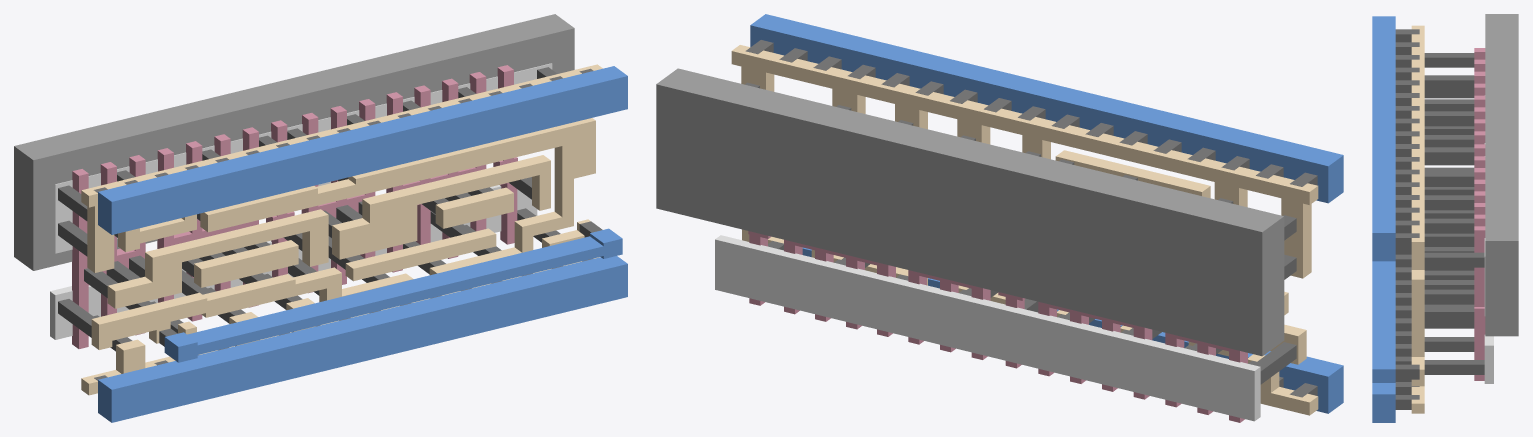
File: sky130_fd_sc_hd__o211ai_4.gds.gltf
3 views of the same model, side by side, from view 1: azimuth 30°, elevation 25°; view 2: azimuth 150°, elevation 25°; view 3: azimuth 270°, elevation 25° (orthographic). The views are drawn at different scales.
Visible parts, largest first — view 1: sky130_fd_sc_hd__o211ai_4_met1, sky130_fd_sc_hd__o211ai_4_li1, sky130_fd_sc_hd__o211ai_4_nwell, sky130_fd_sc_hd__o211ai_4_poly, sky130_fd_sc_hd__o211ai_4_licon, sky130_fd_sc_hd__o211ai_4_diff, sky130_fd_sc_hd__o211ai_4_mcon; view 2: sky130_fd_sc_hd__o211ai_4_nwell, sky130_fd_sc_hd__o211ai_4_diff, sky130_fd_sc_hd__o211ai_4_met1, sky130_fd_sc_hd__o211ai_4_li1, sky130_fd_sc_hd__o211ai_4_poly, sky130_fd_sc_hd__o211ai_4_mcon, sky130_fd_sc_hd__o211ai_4_licon; view 3: sky130_fd_sc_hd__o211ai_4_licon, sky130_fd_sc_hd__o211ai_4_nwell, sky130_fd_sc_hd__o211ai_4_met1, sky130_fd_sc_hd__o211ai_4_mcon, sky130_fd_sc_hd__o211ai_4_li1, sky130_fd_sc_hd__o211ai_4_poly, sky130_fd_sc_hd__o211ai_4_diff.
Part boxes in pixels (bbox=[...]): sky130_fd_sc_hd__o211ai_4_met1: bbox=[98, 66, 627, 422]; sky130_fd_sc_hd__o211ai_4_li1: bbox=[81, 64, 602, 395]; sky130_fd_sc_hd__o211ai_4_nwell: bbox=[14, 14, 574, 270]; sky130_fd_sc_hd__o211ai_4_poly: bbox=[72, 65, 517, 348]; sky130_fd_sc_hd__o211ai_4_licon: bbox=[58, 67, 560, 351]; sky130_fd_sc_hd__o211ai_4_diff: bbox=[50, 63, 552, 339]; sky130_fd_sc_hd__o211ai_4_mcon: bbox=[94, 68, 602, 380]; sky130_fd_sc_hd__o211ai_4_nwell: bbox=[656, 68, 1284, 356]; sky130_fd_sc_hd__o211ai_4_diff: bbox=[715, 235, 1260, 421]; sky130_fd_sc_hd__o211ai_4_met1: bbox=[750, 14, 1343, 413]; sky130_fd_sc_hd__o211ai_4_li1: bbox=[731, 45, 1318, 415]; sky130_fd_sc_hd__o211ai_4_poly: bbox=[748, 231, 1247, 422]; sky130_fd_sc_hd__o211ai_4_mcon: bbox=[745, 40, 1317, 397]; sky130_fd_sc_hd__o211ai_4_licon: bbox=[745, 82, 1296, 384]; sky130_fd_sc_hd__o211ai_4_licon: bbox=[1424, 53, 1484, 374]; sky130_fd_sc_hd__o211ai_4_nwell: bbox=[1485, 14, 1518, 336]; sky130_fd_sc_hd__o211ai_4_met1: bbox=[1372, 16, 1395, 422]; sky130_fd_sc_hd__o211ai_4_mcon: bbox=[1395, 29, 1419, 409]; sky130_fd_sc_hd__o211ai_4_li1: bbox=[1411, 25, 1424, 413]; sky130_fd_sc_hd__o211ai_4_poly: bbox=[1474, 48, 1485, 380]; sky130_fd_sc_hd__o211ai_4_diff: bbox=[1484, 143, 1493, 383].
Size of the model in its own units: 8.2 by 3.2 by 2.24.
